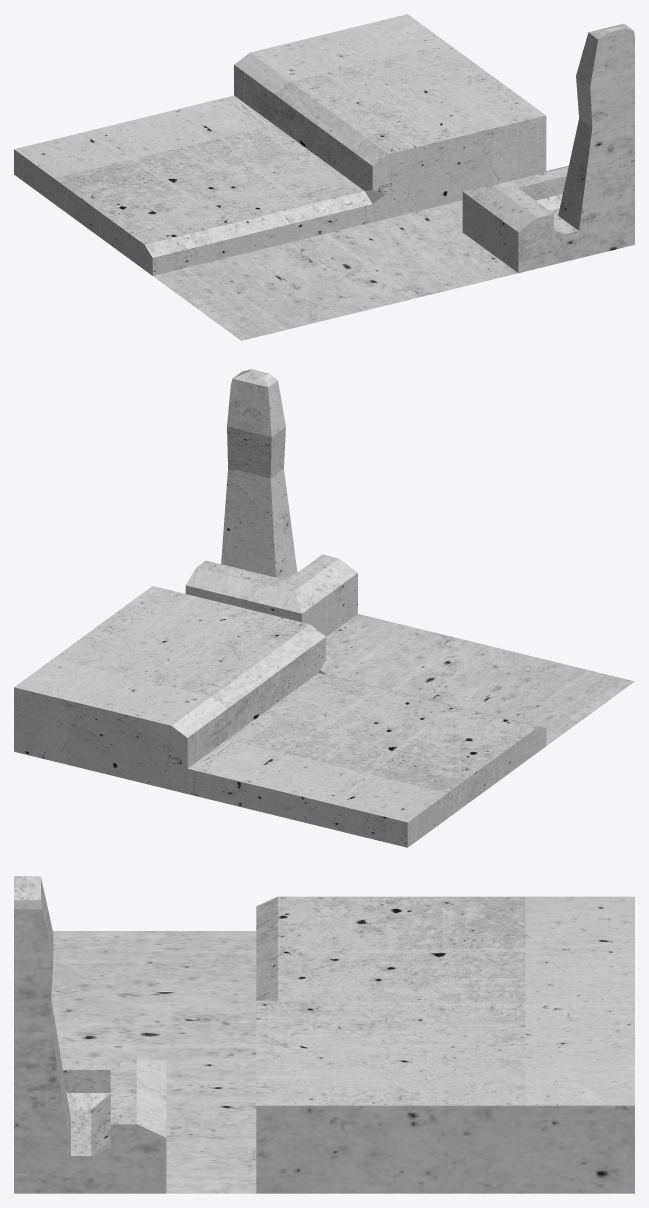
The model's file is fountaintile4glb.glb.
3 views of the same model, one above another, from view 1: azimuth 30°, elevation 25°; view 2: azimuth 150°, elevation 25°; view 3: azimuth 270°, elevation 25° (orthographic). The views are drawn at different scales.
Parts seen in each view (by area): view 1: Plane.001; view 2: Plane.001; view 3: Plane.001.
Boxes of the visible parts, box(x1,y1,x2,y2) form: Plane.001: box(14, 14, 634, 340); Plane.001: box(14, 369, 634, 847); Plane.001: box(14, 876, 634, 1193).
Size of the model in its own units: 2 by 1.06 by 2.
1 material, 1 textured.
